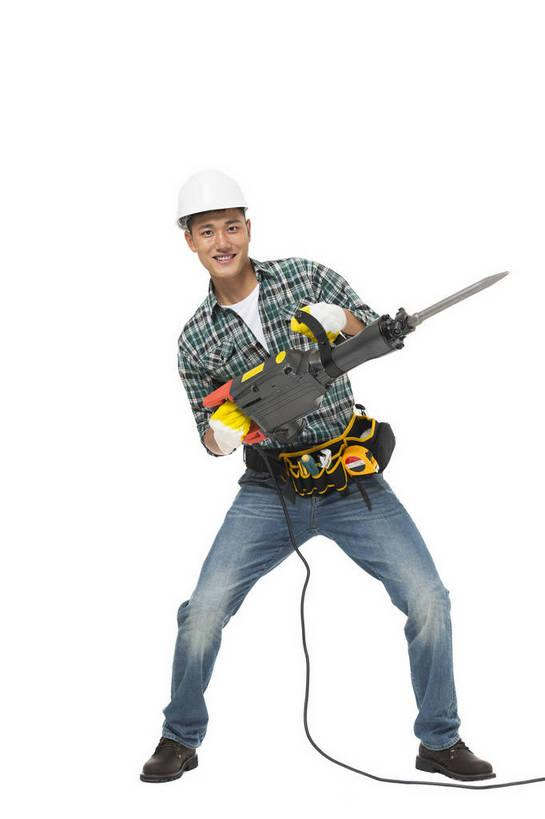helmet: (178, 169, 253, 224)
